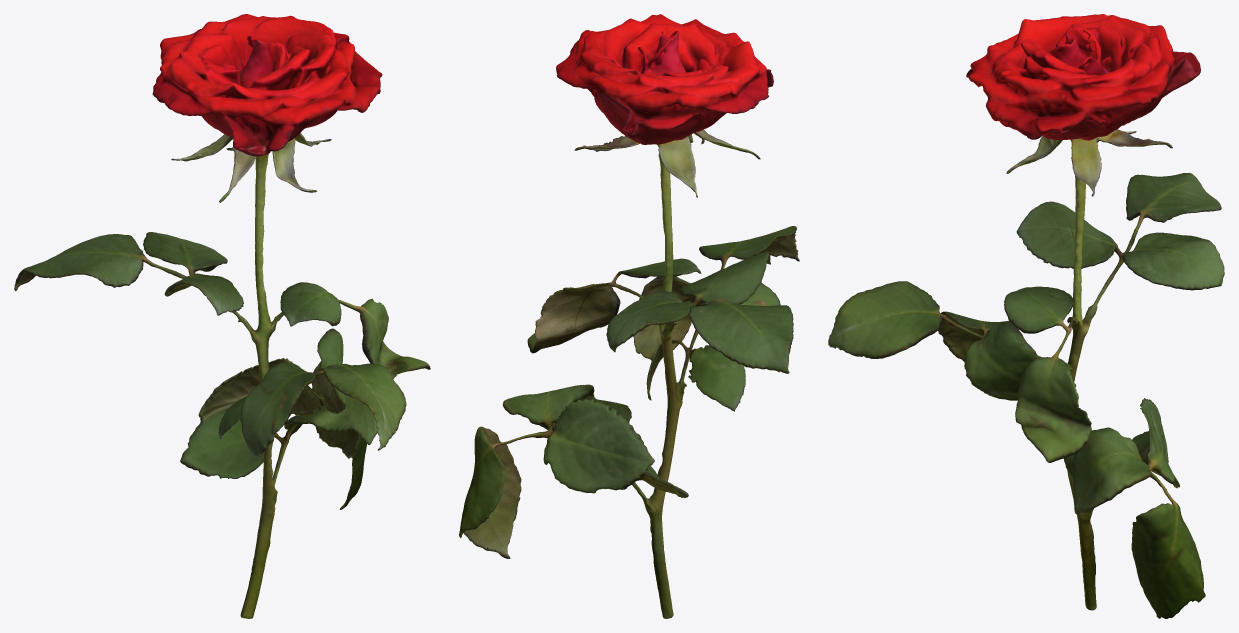
Rendered from rose.glb.
3 views of the same model, side by side, from view 1: azimuth 30°, elevation 25°; view 2: azimuth 150°, elevation 25°; view 3: azimuth 270°, elevation 25° (orthographic).
Parts seen in each view (by area): view 1: Object_2, Object_3; view 2: Object_2, Object_3; view 3: Object_2, Object_3.
Part boxes in pixels (x1,y1,x2,y2): Object_2: [14, 39, 430, 618]; Object_3: [100, 14, 394, 496]; Object_2: [459, 31, 799, 618]; Object_3: [538, 14, 773, 478]; Object_2: [828, 27, 1224, 618]; Object_3: [966, 14, 1207, 488].
Size of the model in its own units: 1.51 by 2.5 by 1.54.
1 material, 1 textured.
